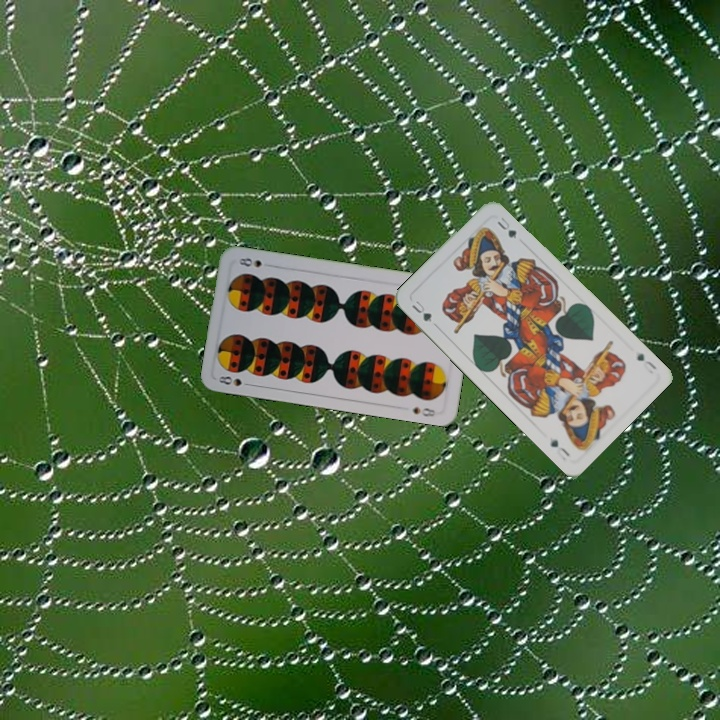GU: (408, 296, 434, 325), (633, 349, 659, 372)
S8: (215, 372, 255, 389)
